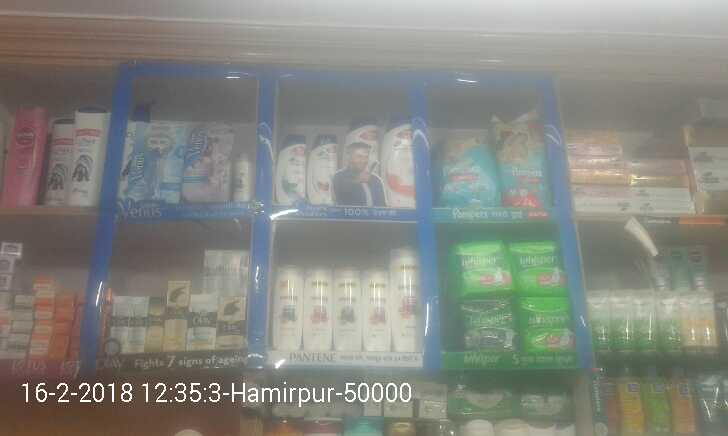venus: (182, 113, 232, 205), (132, 122, 182, 205)
